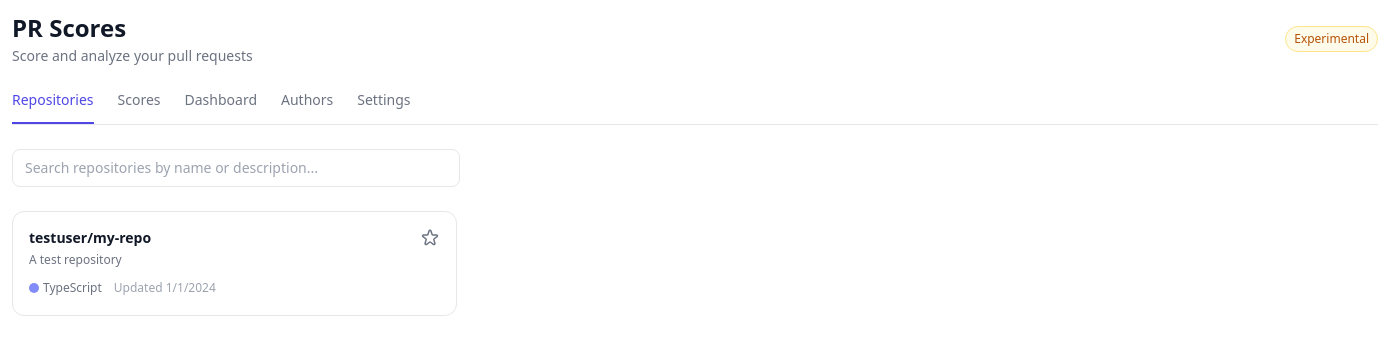
it: PrScores › with feature flags enabled — repos view › clicking repo navigates to Scores tab
Click the heading "testuser/my-repo" at (90, 238), box [29, 228, 151, 248]
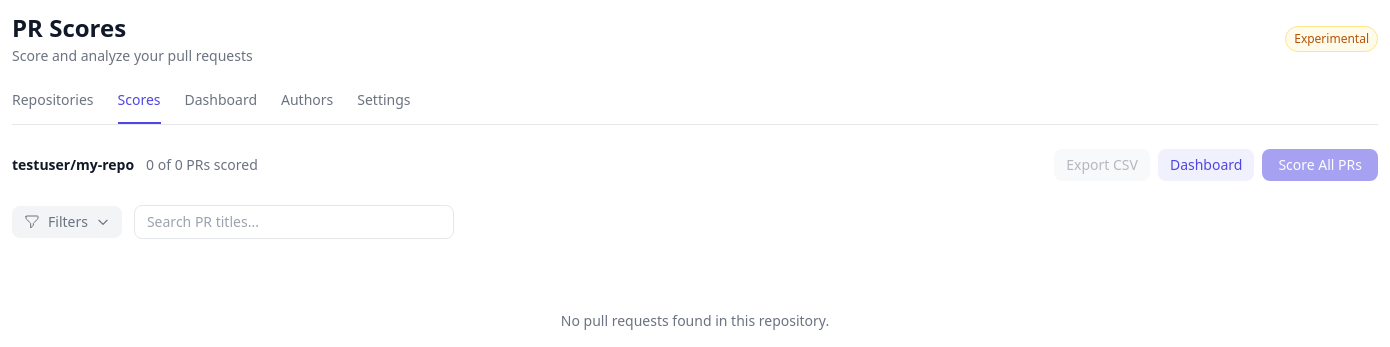
Check: the text "No pull requests found in this repository." is shown, box [561, 311, 829, 330]
